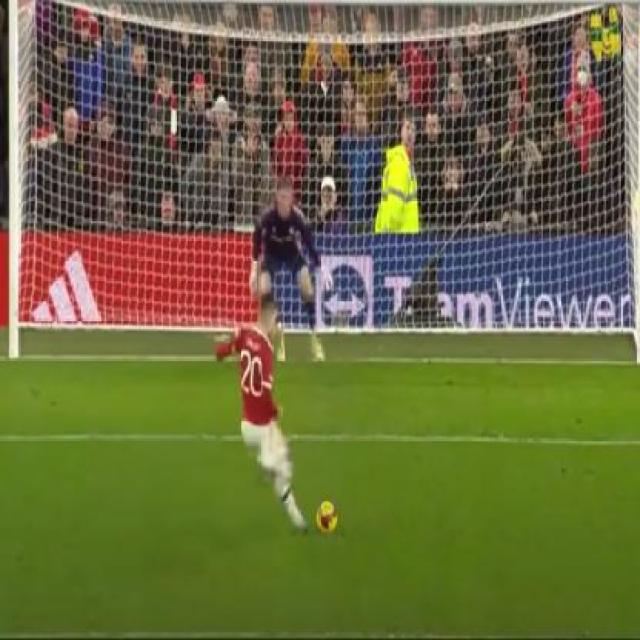ball: (318, 496, 340, 540)
cage: (0, 0, 638, 361)
gardien: (212, 289, 311, 534), (246, 174, 326, 363)
